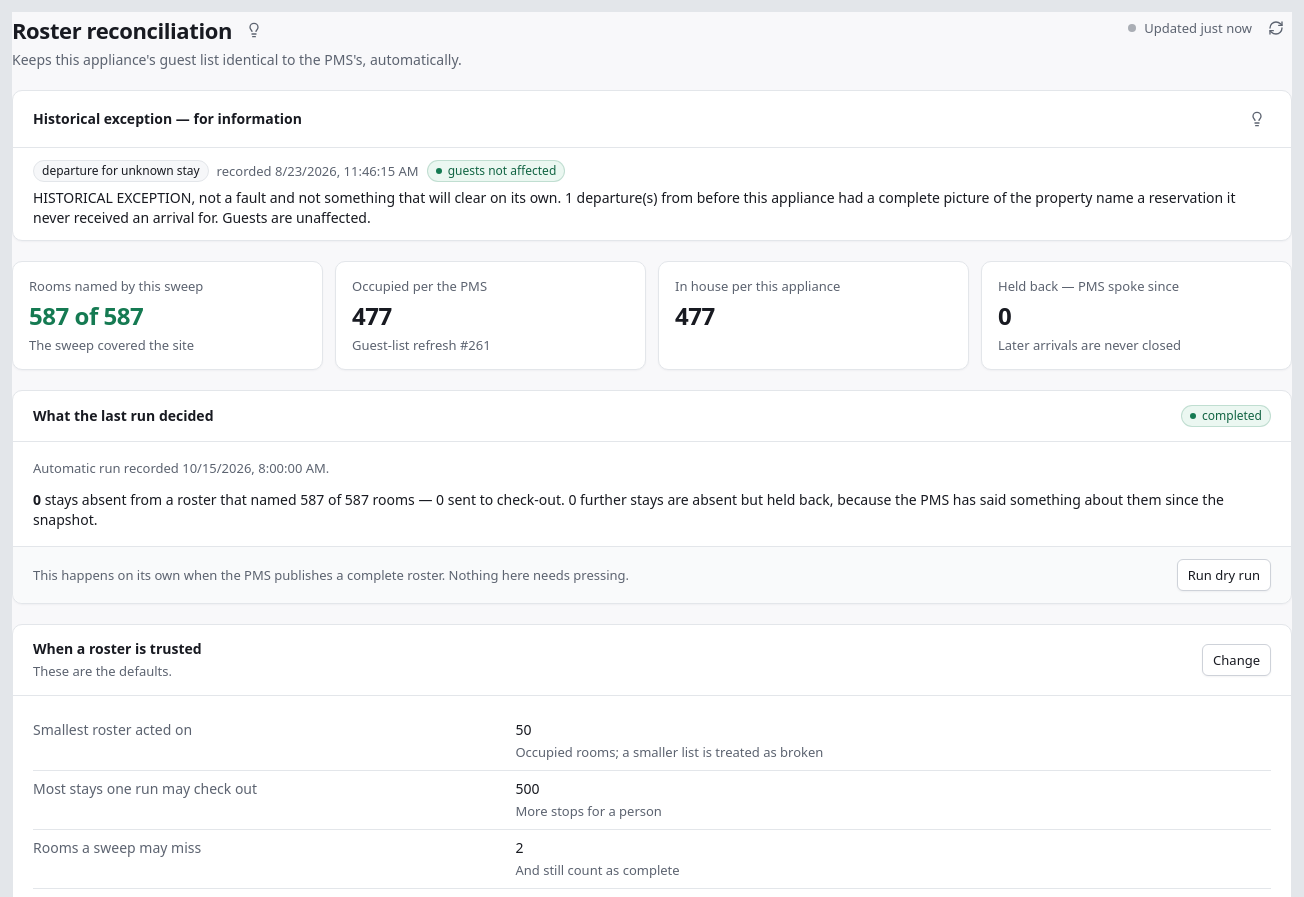
Test: roster reconciliation offers no state-changing action › the integration owner can run a dry run explicitly
Click the button "Run dry run".
click(1224, 575)  # box x1=1177 y1=559 x2=1271 y2=591
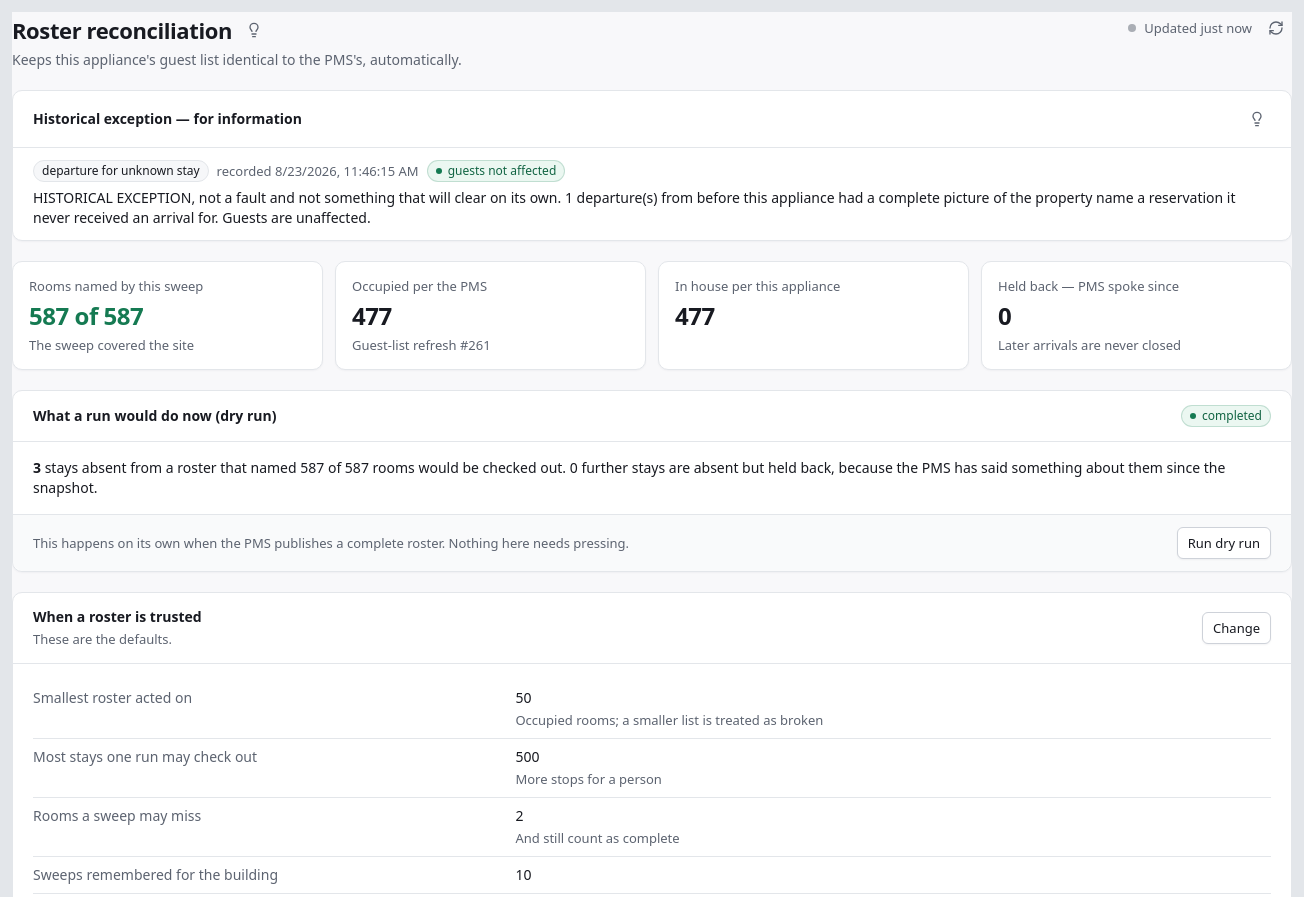
Expected: the heading "What a run would do now (dry run)" is shown, x1=33 y1=406 x2=276 y2=426
